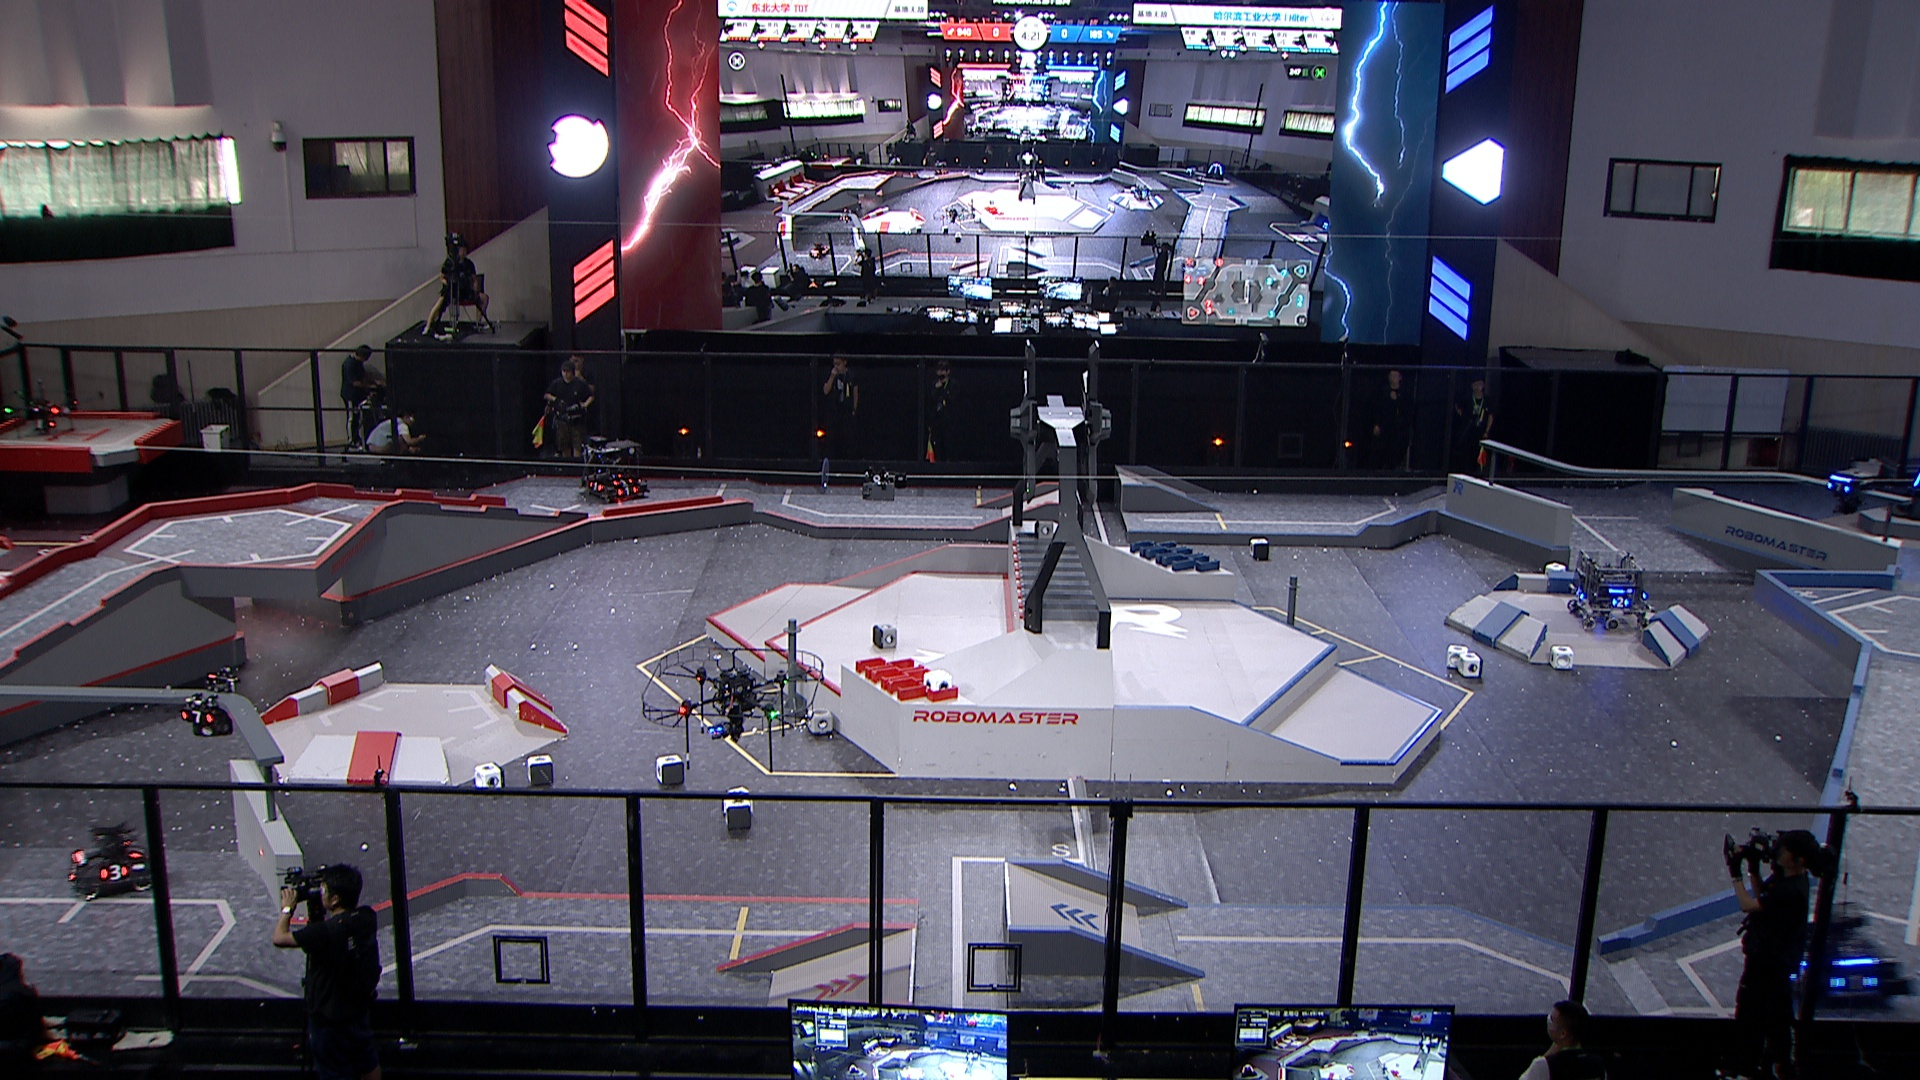armor: (1832, 969, 1879, 998), (179, 707, 215, 727), (98, 865, 131, 882), (1826, 480, 1851, 495), (125, 841, 144, 860), (615, 487, 638, 498), (1610, 597, 1631, 611), (611, 477, 636, 488), (588, 480, 604, 493), (1575, 588, 1588, 603), (1913, 473, 1920, 489)
base: (1888, 439, 1920, 522)
car: (1771, 903, 1915, 1011), (67, 816, 164, 902), (1567, 549, 1655, 632), (580, 436, 650, 504)
ignore: (1205, 162, 1226, 182), (808, 243, 833, 258), (1133, 185, 1153, 200), (932, 161, 951, 177), (839, 208, 855, 225), (1185, 167, 1197, 179)
watcher: (178, 671, 243, 740), (1826, 467, 1876, 517)
